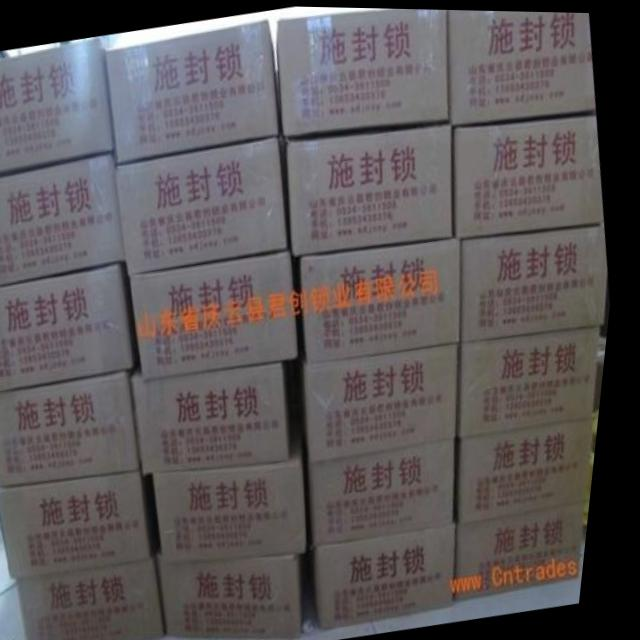box: (104, 19, 282, 162), (117, 135, 293, 273), (276, 7, 451, 136), (289, 121, 457, 254), (135, 249, 305, 378), (162, 421, 318, 560), (305, 236, 466, 359), (455, 113, 608, 238), (0, 262, 145, 390), (310, 341, 465, 459), (6, 471, 170, 581), (0, 370, 152, 488), (0, 152, 131, 288), (139, 361, 298, 472), (466, 222, 613, 340), (447, 8, 598, 122), (317, 437, 464, 544), (0, 39, 116, 174), (467, 324, 606, 436), (325, 522, 467, 626), (467, 414, 601, 520), (167, 546, 315, 636), (466, 498, 594, 599), (29, 555, 178, 640)
